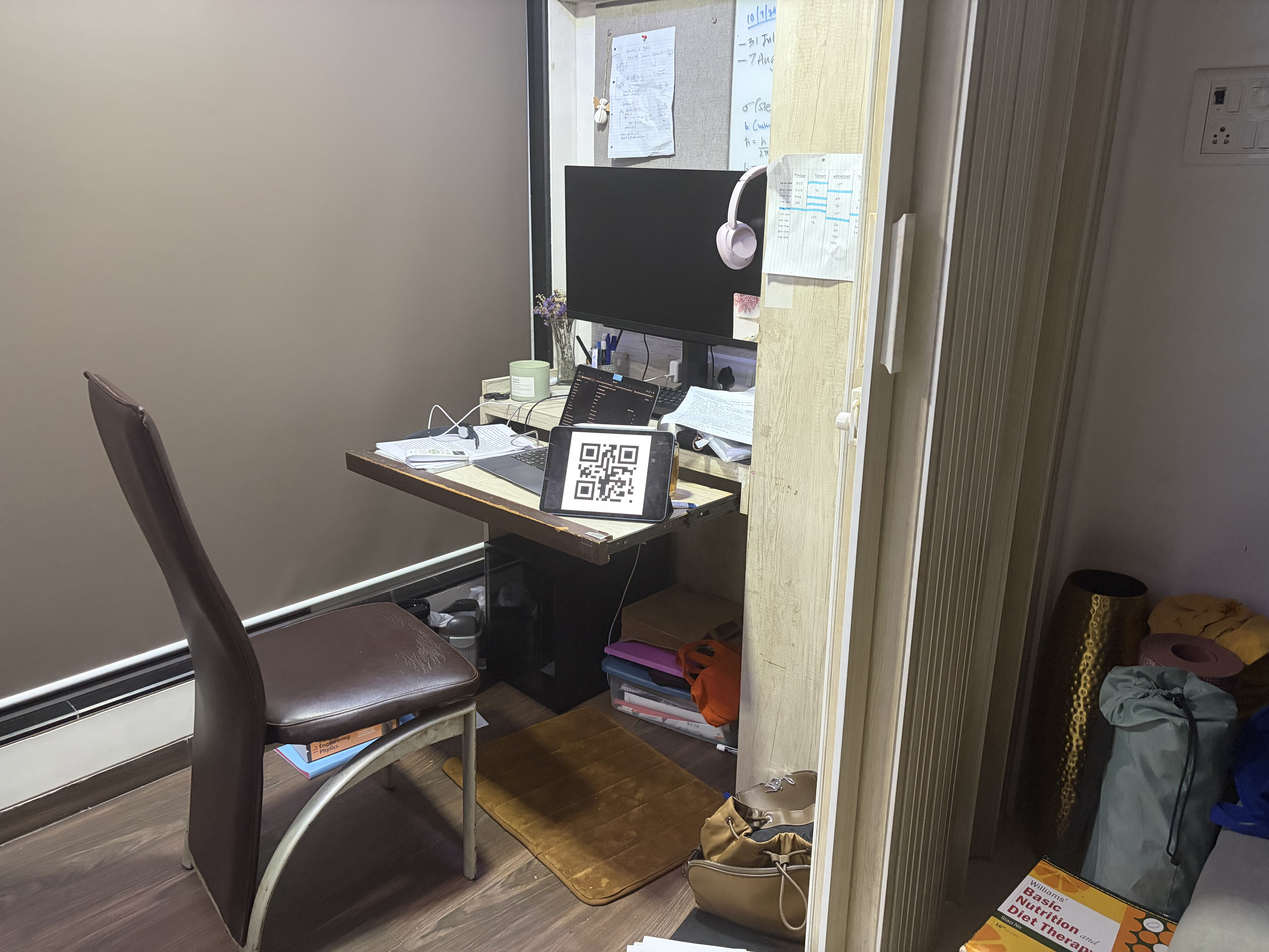QR: (569, 439, 645, 507)
